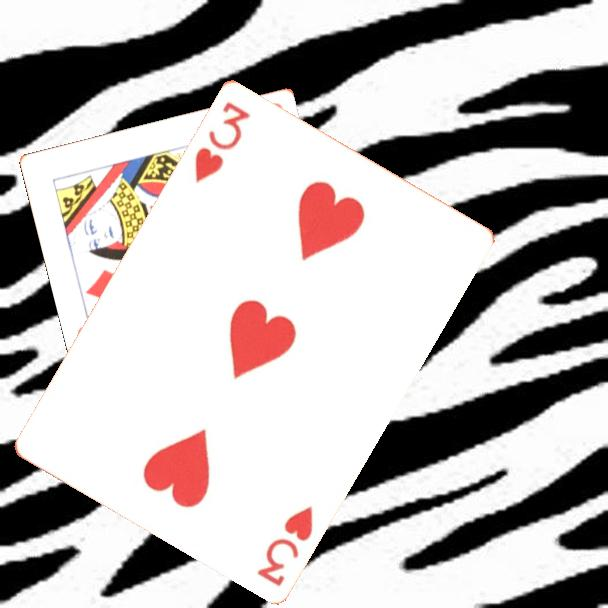h03: (190, 97, 253, 186), (253, 501, 316, 589)
